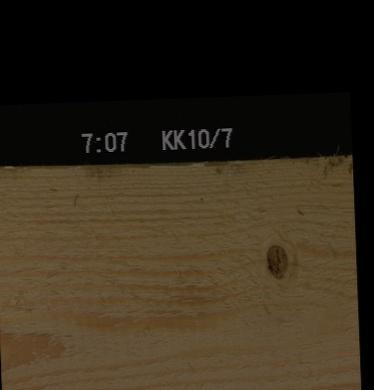wave: (130, 159, 271, 169)
